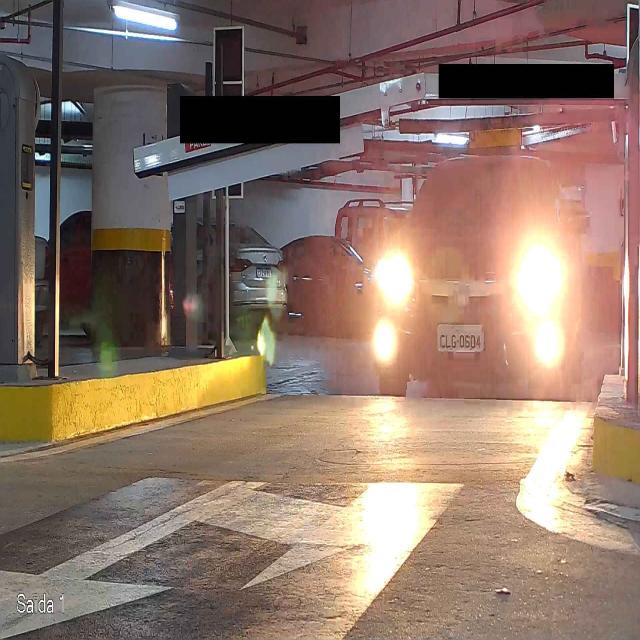old_plate: (435, 321, 487, 354)
